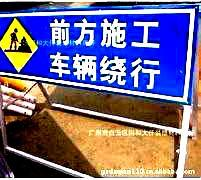sign: (1, 7, 196, 101)
